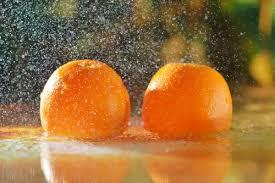Orange: (141, 60, 234, 136), (40, 61, 130, 138)
